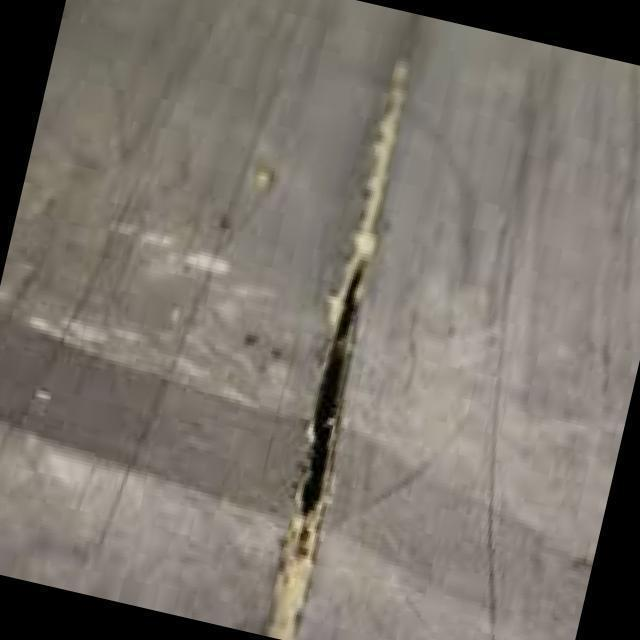Tear: (292, 252, 370, 555)
